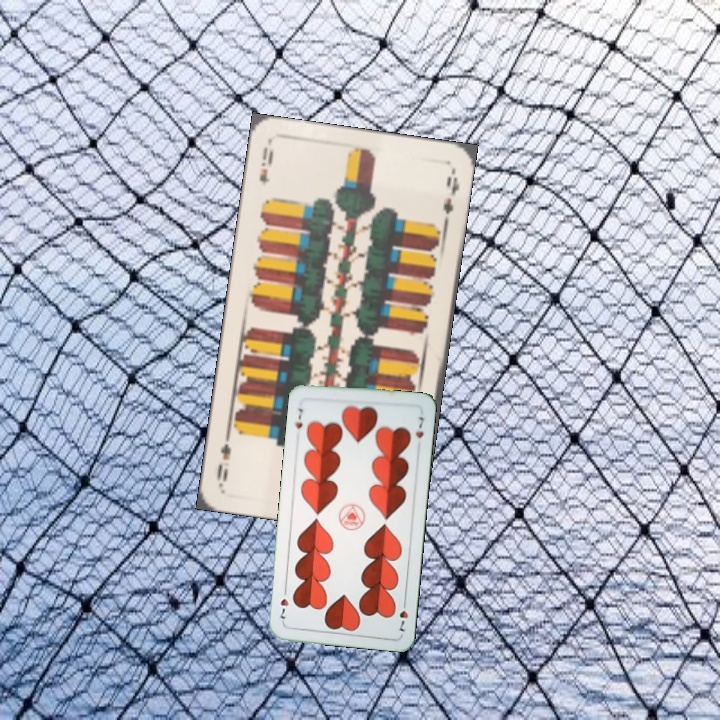E9: (255, 142, 276, 188)
H7: (395, 595, 411, 634), (291, 404, 305, 431)
